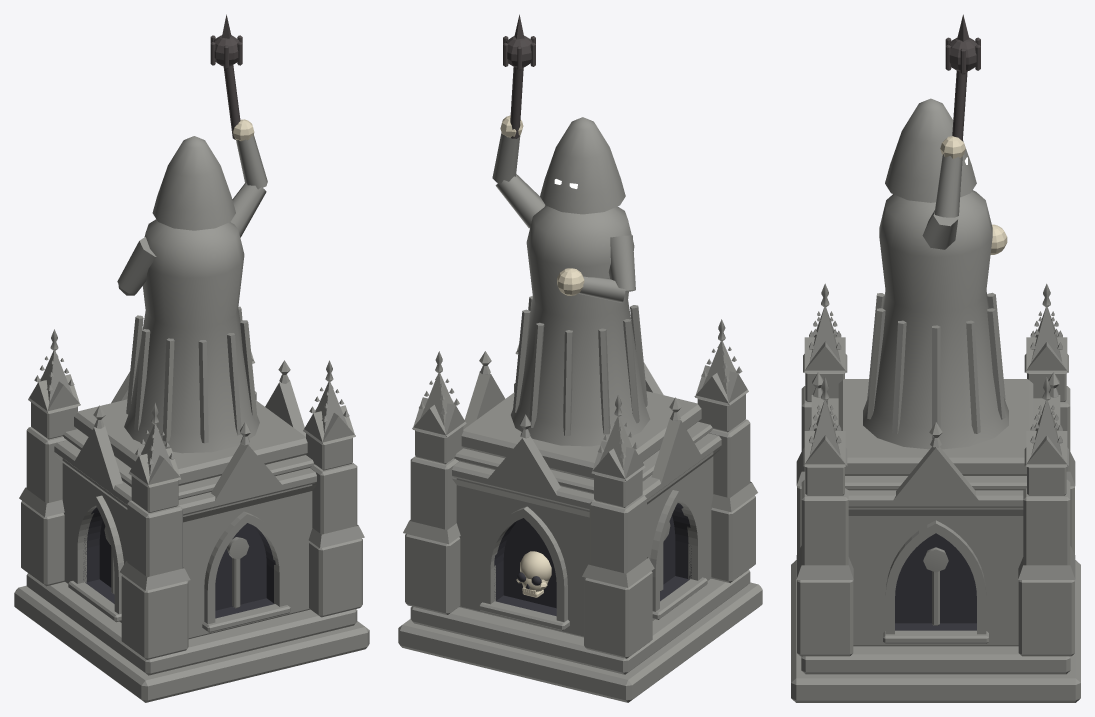
File: tower_idol_1.glb
3 renders of one model, left to right at view 1: azimuth 30°, elevation 25°; view 2: azimuth 150°, elevation 25°; view 3: azimuth 270°, elevation 25°, orthographic. The views are drawn at different scales.
Parts seen in each view (by area): view 1: tower; view 2: tower; view 3: tower.
Part boxes in pixels (left/top/right/bottom): tower: left=14, top=14, right=369, bottom=702; tower: left=398, top=14, right=762, bottom=702; tower: left=791, top=14, right=1080, bottom=702.
Size of the model in its own units: 1.7 by 4.24 by 1.7.
